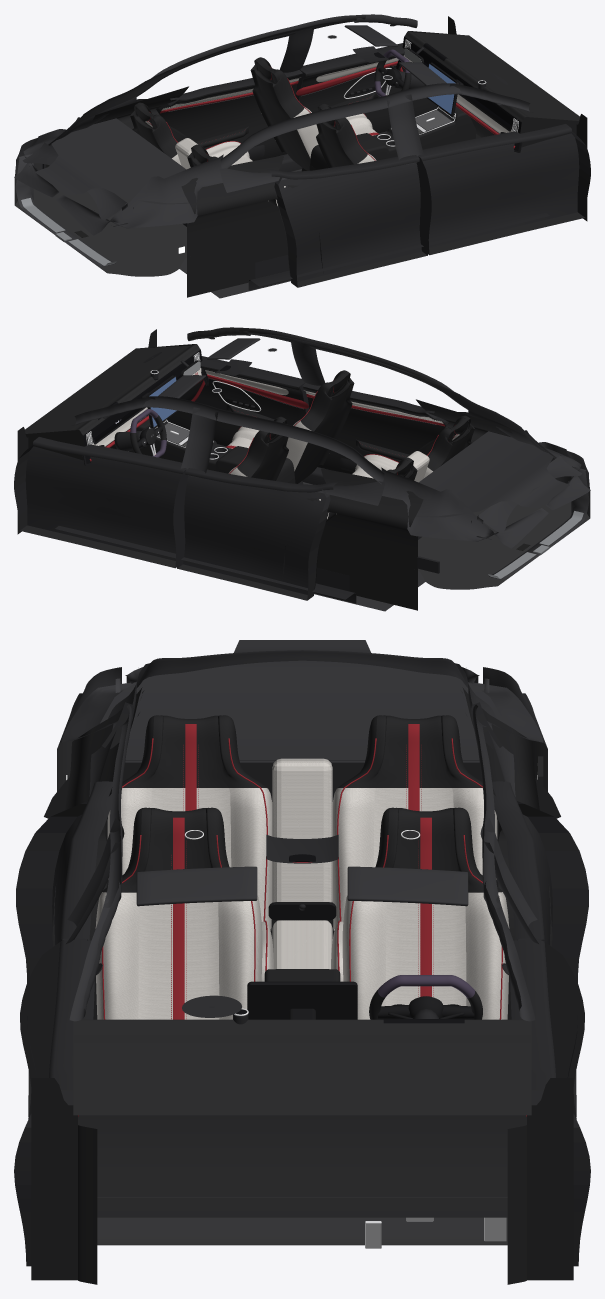
Rendered from avatr-06t-interior.glb.
3 views of the same model, one above another, from view 1: azimuth 30°, elevation 25°; view 2: azimuth 150°, elevation 25°; view 3: azimuth 270°, elevation 25° (orthographic). The views are drawn at different scales.
Visible parts, largest first — view 1: Avatr06T_Cabin, int_door_R, int_rdoor_R, int_parcel_shelf, int_cpillar, int_rdoor_L, int_door_L, int_headliner, int_rear_sill, int_qtr_lower, screen_main; view 2: Avatr06T_Cabin, int_door_L, int_rdoor_L, int_parcel_shelf, int_cpillar, int_rdoor_R, int_door_R, int_headliner, int_rear_sill, int_qtr_lower; view 3: Avatr06T_Cabin, int_parcel_shelf, int_rdoor_R, int_rdoor_L, int_door_L, int_door_R, int_headliner, int_cpillar, int_qtr_lower, int_cpillar_flange.
Part boxes in pixels (x1=…): Avatr06T_Cabin: x1=14, y1=14, x2=587, y2=298; int_door_R: x1=418, y1=124, x2=590, y2=255; int_rdoor_R: x1=267, y1=155, x2=429, y2=287; int_parcel_shelf: x1=35, y1=118, x2=189, y2=204; int_cpillar: x1=14, y1=96, x2=223, y2=235; int_rdoor_L: x1=156, y1=70, x2=302, y2=160; int_door_L: x1=295, y1=43, x2=437, y2=133; int_headliner: x1=60, y1=20, x2=357, y2=137; int_rear_sill: x1=22, y1=142, x2=126, y2=220; int_qtr_lower: x1=135, y1=99, x2=286, y2=192; screen_main: x1=428, y1=64, x2=455, y2=113; Avatr06T_Cabin: x1=17, y1=327, x2=590, y2=611; int_door_L: x1=14, y1=437, x2=186, y2=568; int_rdoor_L: x1=175, y1=468, x2=337, y2=600; int_parcel_shelf: x1=416, y1=431, x2=569, y2=517; int_cpillar: x1=381, y1=409, x2=590, y2=548; int_rdoor_R: x1=302, y1=383, x2=448, y2=473; int_door_R: x1=167, y1=356, x2=309, y2=446; int_headliner: x1=247, y1=333, x2=544, y2=450; int_rear_sill: x1=478, y1=455, x2=582, y2=533; int_qtr_lower: x1=318, y1=412, x2=469, y2=505; Avatr06T_Cabin: x1=27, y1=667, x2=577, y2=1284; int_parcel_shelf: x1=100, y1=640, x2=504, y2=762; int_rdoor_R: x1=16, y1=781, x2=112, y2=1116; int_rdoor_L: x1=492, y1=781, x2=588, y2=1116; int_door_L: x1=510, y1=939, x2=590, y2=1266; int_door_R: x1=14, y1=939, x2=94, y2=1266; int_headliner: x1=137, y1=650, x2=467, y2=716; int_cpillar: x1=61, y1=663, x2=543, y2=742; int_qtr_lower: x1=89, y1=732, x2=515, y2=796; int_cpillar_flange: x1=102, y1=702, x2=502, y2=748.
Bounding box in the file's own units: 3.56 × 1.1 × 1.91.
Materials: 29 (3 with a texture image).
